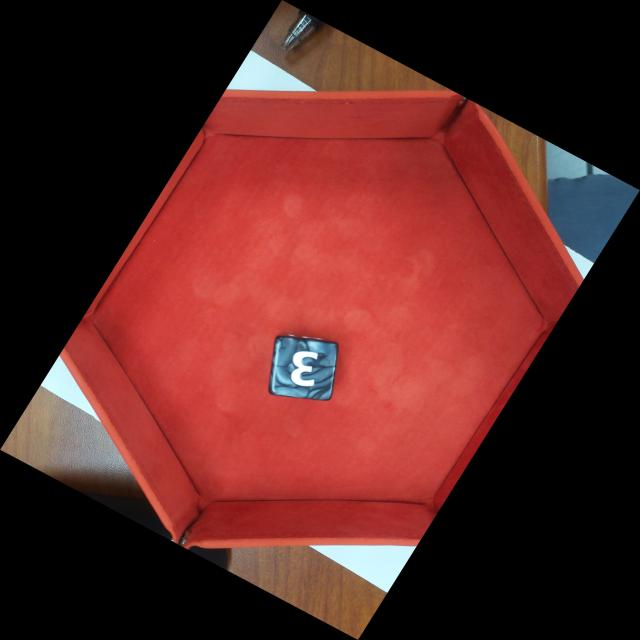dice: (275, 339, 337, 398)
